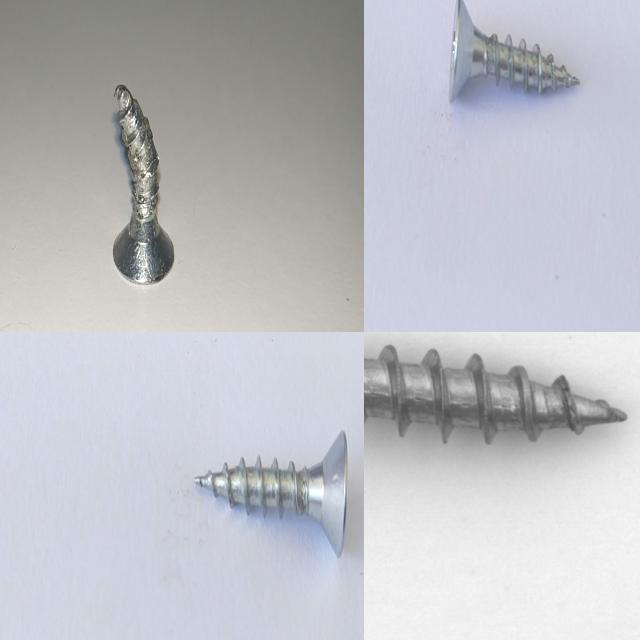Screw: (364, 332, 640, 560), (195, 430, 348, 556), (449, 0, 580, 101), (114, 84, 175, 283)
